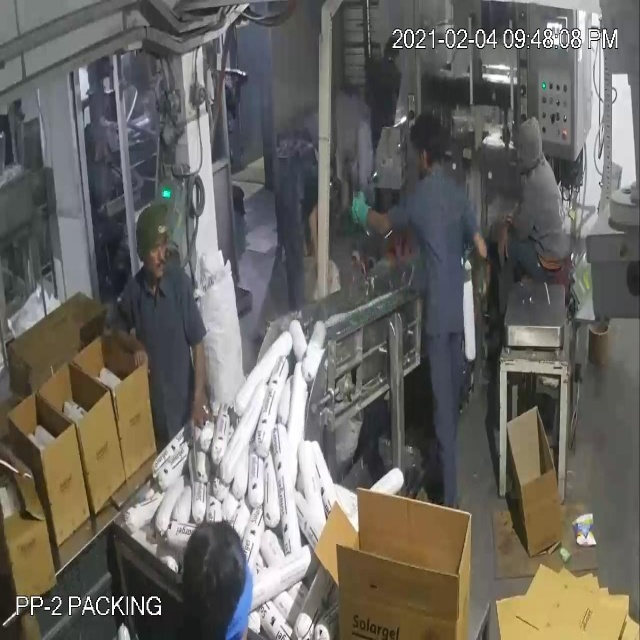Guantes: (352, 179, 391, 241)
Sin_guantes: (94, 298, 159, 380), (181, 321, 222, 438), (303, 192, 330, 287), (487, 207, 516, 280)
